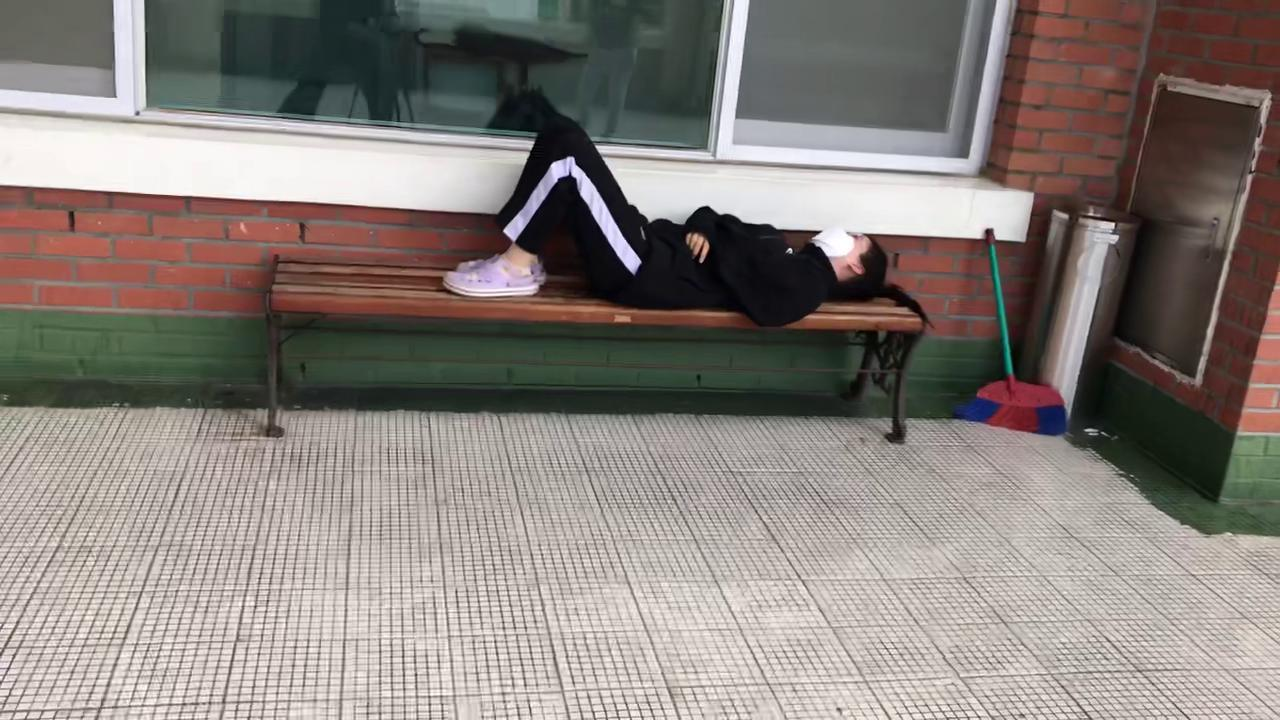sleep: (439, 117, 886, 320)
